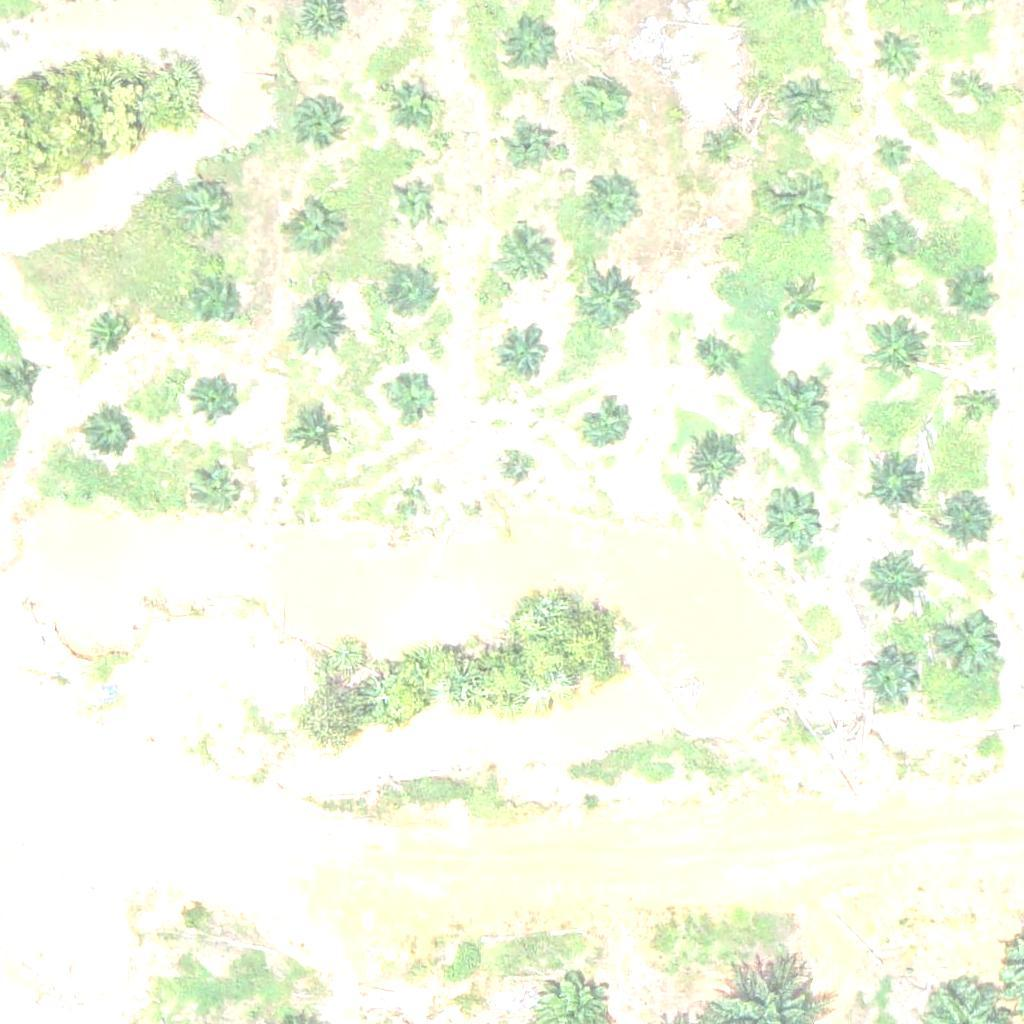Kelapa_Sawit: (764, 156, 839, 232), (925, 605, 1000, 681), (761, 376, 824, 439), (286, 299, 349, 362), (858, 553, 921, 616), (757, 485, 820, 548), (857, 650, 920, 713), (860, 317, 922, 380), (577, 265, 639, 328), (495, 228, 557, 291), (775, 73, 837, 136), (574, 175, 636, 238), (381, 70, 443, 133), (680, 430, 742, 493), (865, 455, 927, 517), (932, 483, 994, 545), (384, 366, 434, 417), (388, 267, 438, 318), (286, 204, 336, 255), (180, 189, 230, 240), (191, 272, 241, 323), (191, 370, 241, 421), (291, 409, 341, 460), (499, 332, 549, 382), (580, 399, 630, 449), (506, 116, 556, 166), (505, 20, 555, 70), (859, 223, 909, 273), (572, 76, 622, 126), (291, 94, 341, 144), (82, 410, 132, 460), (945, 270, 995, 320), (776, 279, 826, 329), (691, 336, 741, 386), (699, 119, 749, 169), (193, 471, 243, 521), (85, 306, 135, 356), (871, 32, 921, 82), (961, 391, 999, 429), (874, 134, 912, 172), (955, 70, 993, 108), (394, 183, 431, 221), (505, 452, 530, 477), (715, 229, 740, 254), (410, 486, 435, 511)
